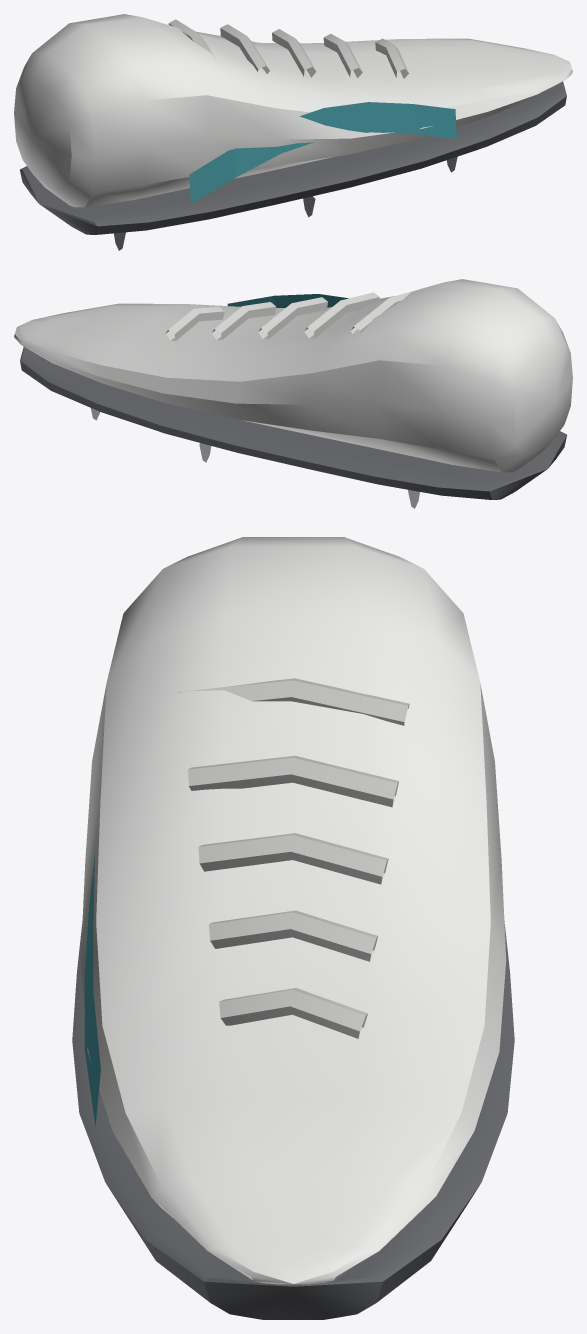
File: SM_C26_Shoe_L.fbx
3 renders of one model, top to bottom at view 1: azimuth 30°, elevation 25°; view 2: azimuth 150°, elevation 25°; view 3: azimuth 270°, elevation 25°, orthographic. The views are drawn at different scales.
Visible parts, largest first — view 1: SM_C26_Shoe_L; view 2: SM_C26_Shoe_L; view 3: SM_C26_Shoe_L.
Boxes of the visible parts, bbox=[...] form: SM_C26_Shoe_L: bbox=[14, 14, 572, 250]; SM_C26_Shoe_L: bbox=[14, 279, 572, 508]; SM_C26_Shoe_L: bbox=[72, 537, 514, 1319].
Bounding box in the file's own units: 27.5 × 9.78 × 9.48.
